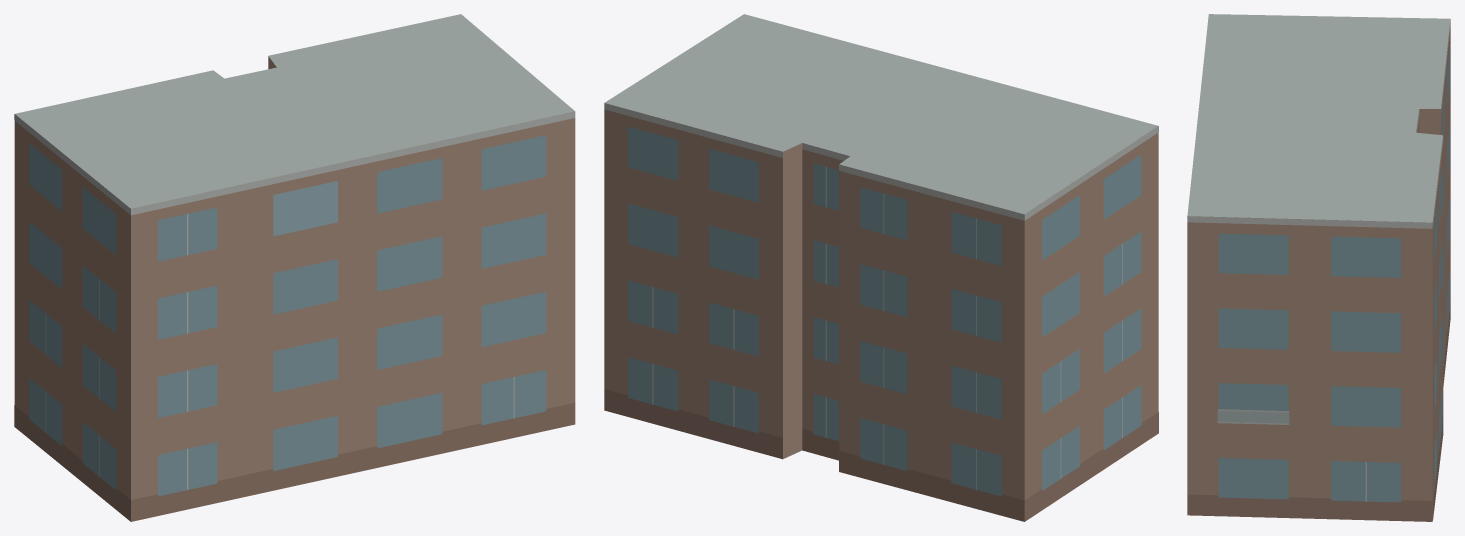
File: survey-upis-32728545.glb
3 views of the same model, side by side, from view 1: azimuth 30°, elevation 25°; view 2: azimuth 150°, elevation 25°; view 3: azimuth 270°, elevation 25° (orthographic). The views are drawn at different scales.
Visible parts, largest first — view 1: survey-upis-32728545.tmp; view 2: survey-upis-32728545.tmp; view 3: survey-upis-32728545.tmp.
Boxes of the visible parts, box(x1,y1,x2,y2) form: survey-upis-32728545.tmp: box(14, 14, 575, 521); survey-upis-32728545.tmp: box(604, 14, 1158, 521); survey-upis-32728545.tmp: box(1187, 14, 1450, 521).
Size of the model in its own units: 17.51 by 11.7 by 9.34.
